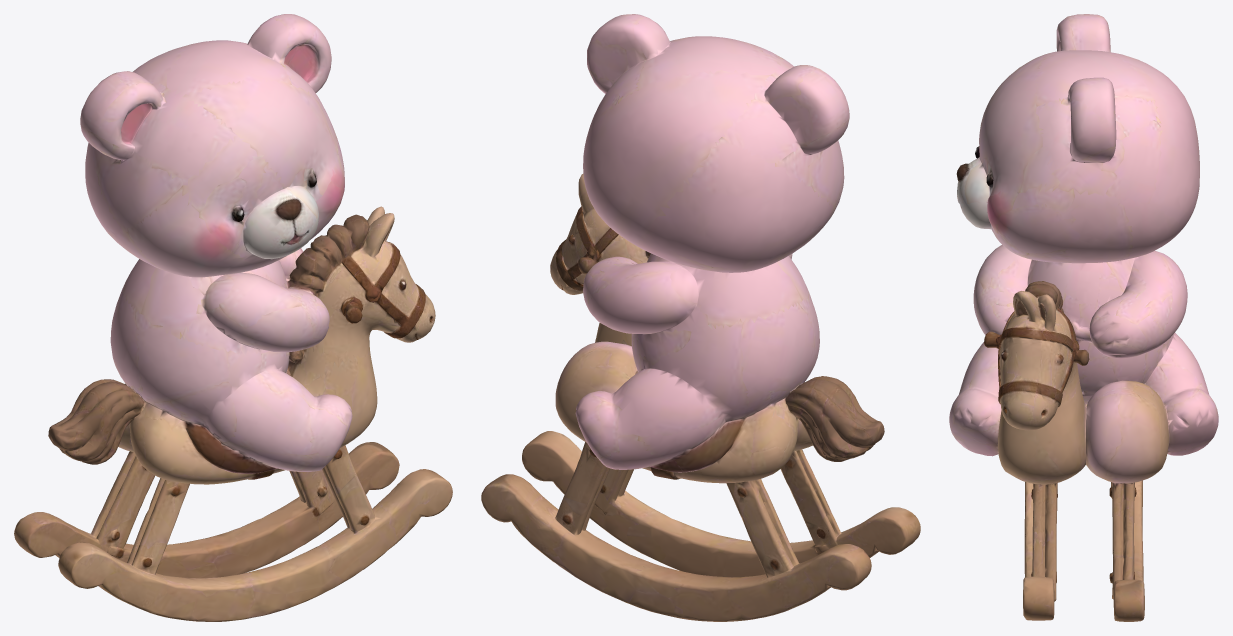
The picture shows the model from 3 angles, left to right: view 1: azimuth 30°, elevation 25°; view 2: azimuth 150°, elevation 25°; view 3: azimuth 270°, elevation 25°; orthographic projection. The views are drawn at different scales.
Size of the model in its own units: 1.36 by 1.9 by 0.8604.
1 material, 1 textured.
